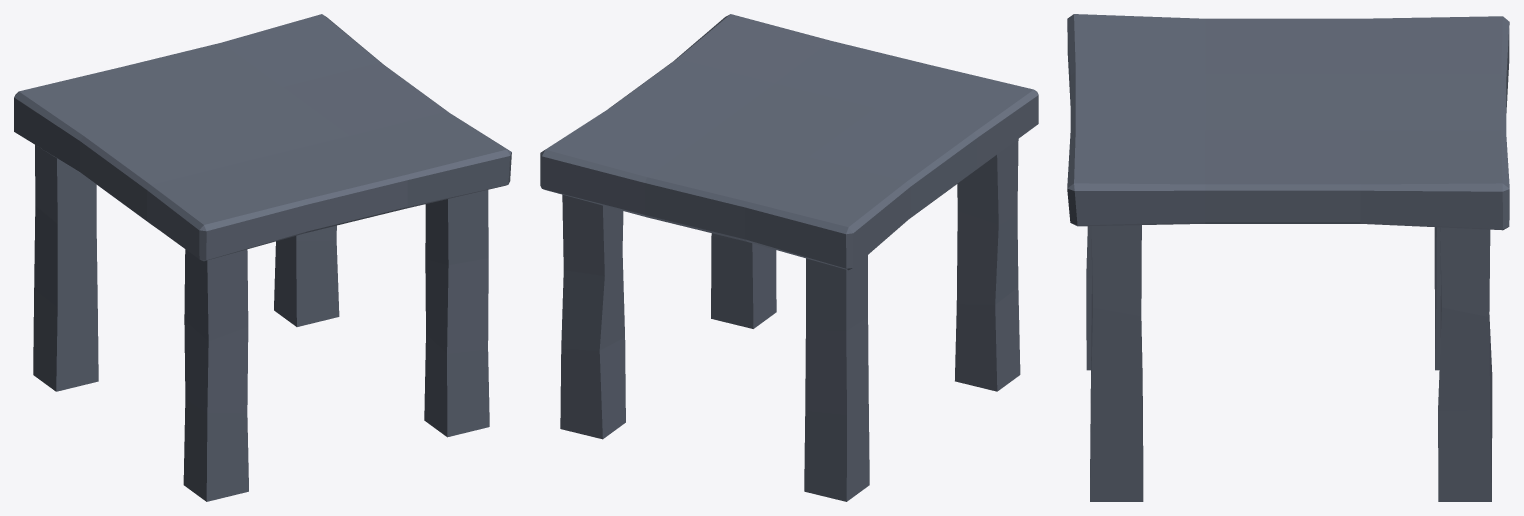
Rendered from CoffeTable01.fbx.
The picture shows the model from 3 angles, left to right: view 1: azimuth 30°, elevation 25°; view 2: azimuth 150°, elevation 25°; view 3: azimuth 270°, elevation 25°; orthographic projection. The views are drawn at different scales.
Visible parts, largest first — view 1: CoffeTable01; view 2: CoffeTable01; view 3: CoffeTable01.
Part boxes in pixels (box(x1,y1,x2,y2)): CoffeTable01: box(14, 14, 511, 501); CoffeTable01: box(540, 14, 1038, 501); CoffeTable01: box(1067, 14, 1509, 501).
Size of the model in its own units: 70.46 by 61.2 by 74.49.
